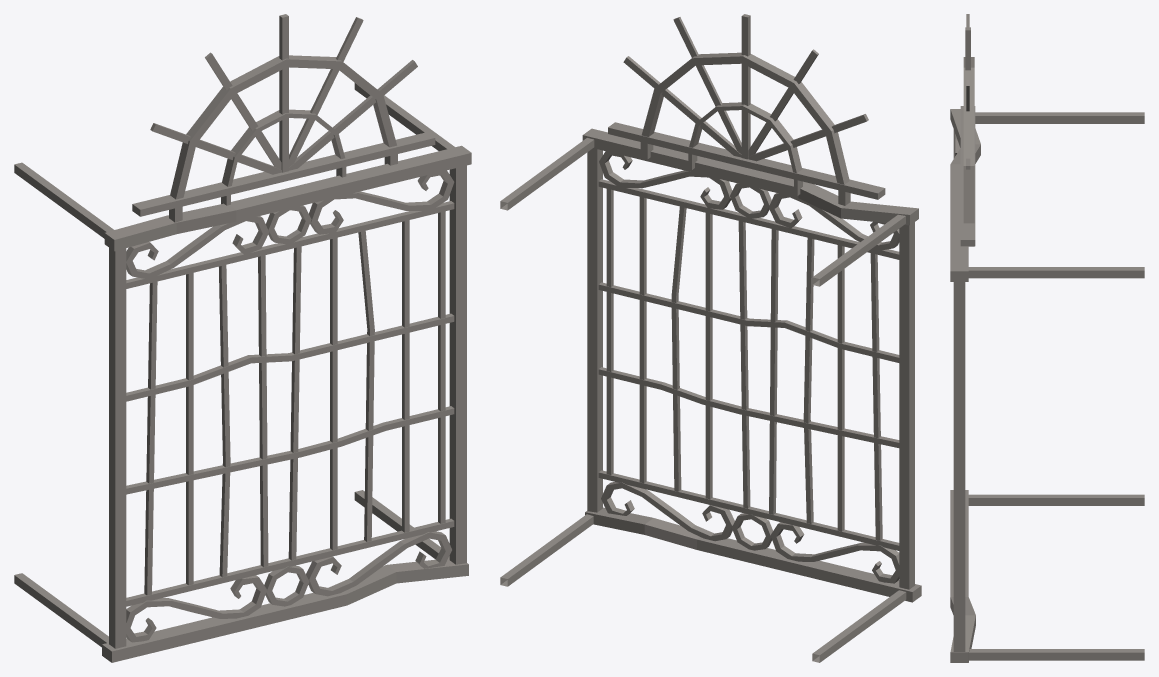
Rendered from SM_Prop_WindowBars_01.glb.
3 views of the same model, side by side, from view 1: azimuth 30°, elevation 25°; view 2: azimuth 150°, elevation 25°; view 3: azimuth 270°, elevation 25° (orthographic). The views are drawn at different scales.
Visible parts, largest first — view 1: SM_Prop_WindowBars_01; view 2: SM_Prop_WindowBars_01; view 3: SM_Prop_WindowBars_01.
Part boxes in pixels (x1=…): SM_Prop_WindowBars_01: x1=14, y1=14, x2=471, y2=662; SM_Prop_WindowBars_01: x1=500, y1=14, x2=921, y2=662; SM_Prop_WindowBars_01: x1=950, y1=14, x2=1144, y2=662.
Bounding box in the file's own units: 0.0112 × 0.0178 × 0.00564.
Materials: 1 (1 with a texture image).
